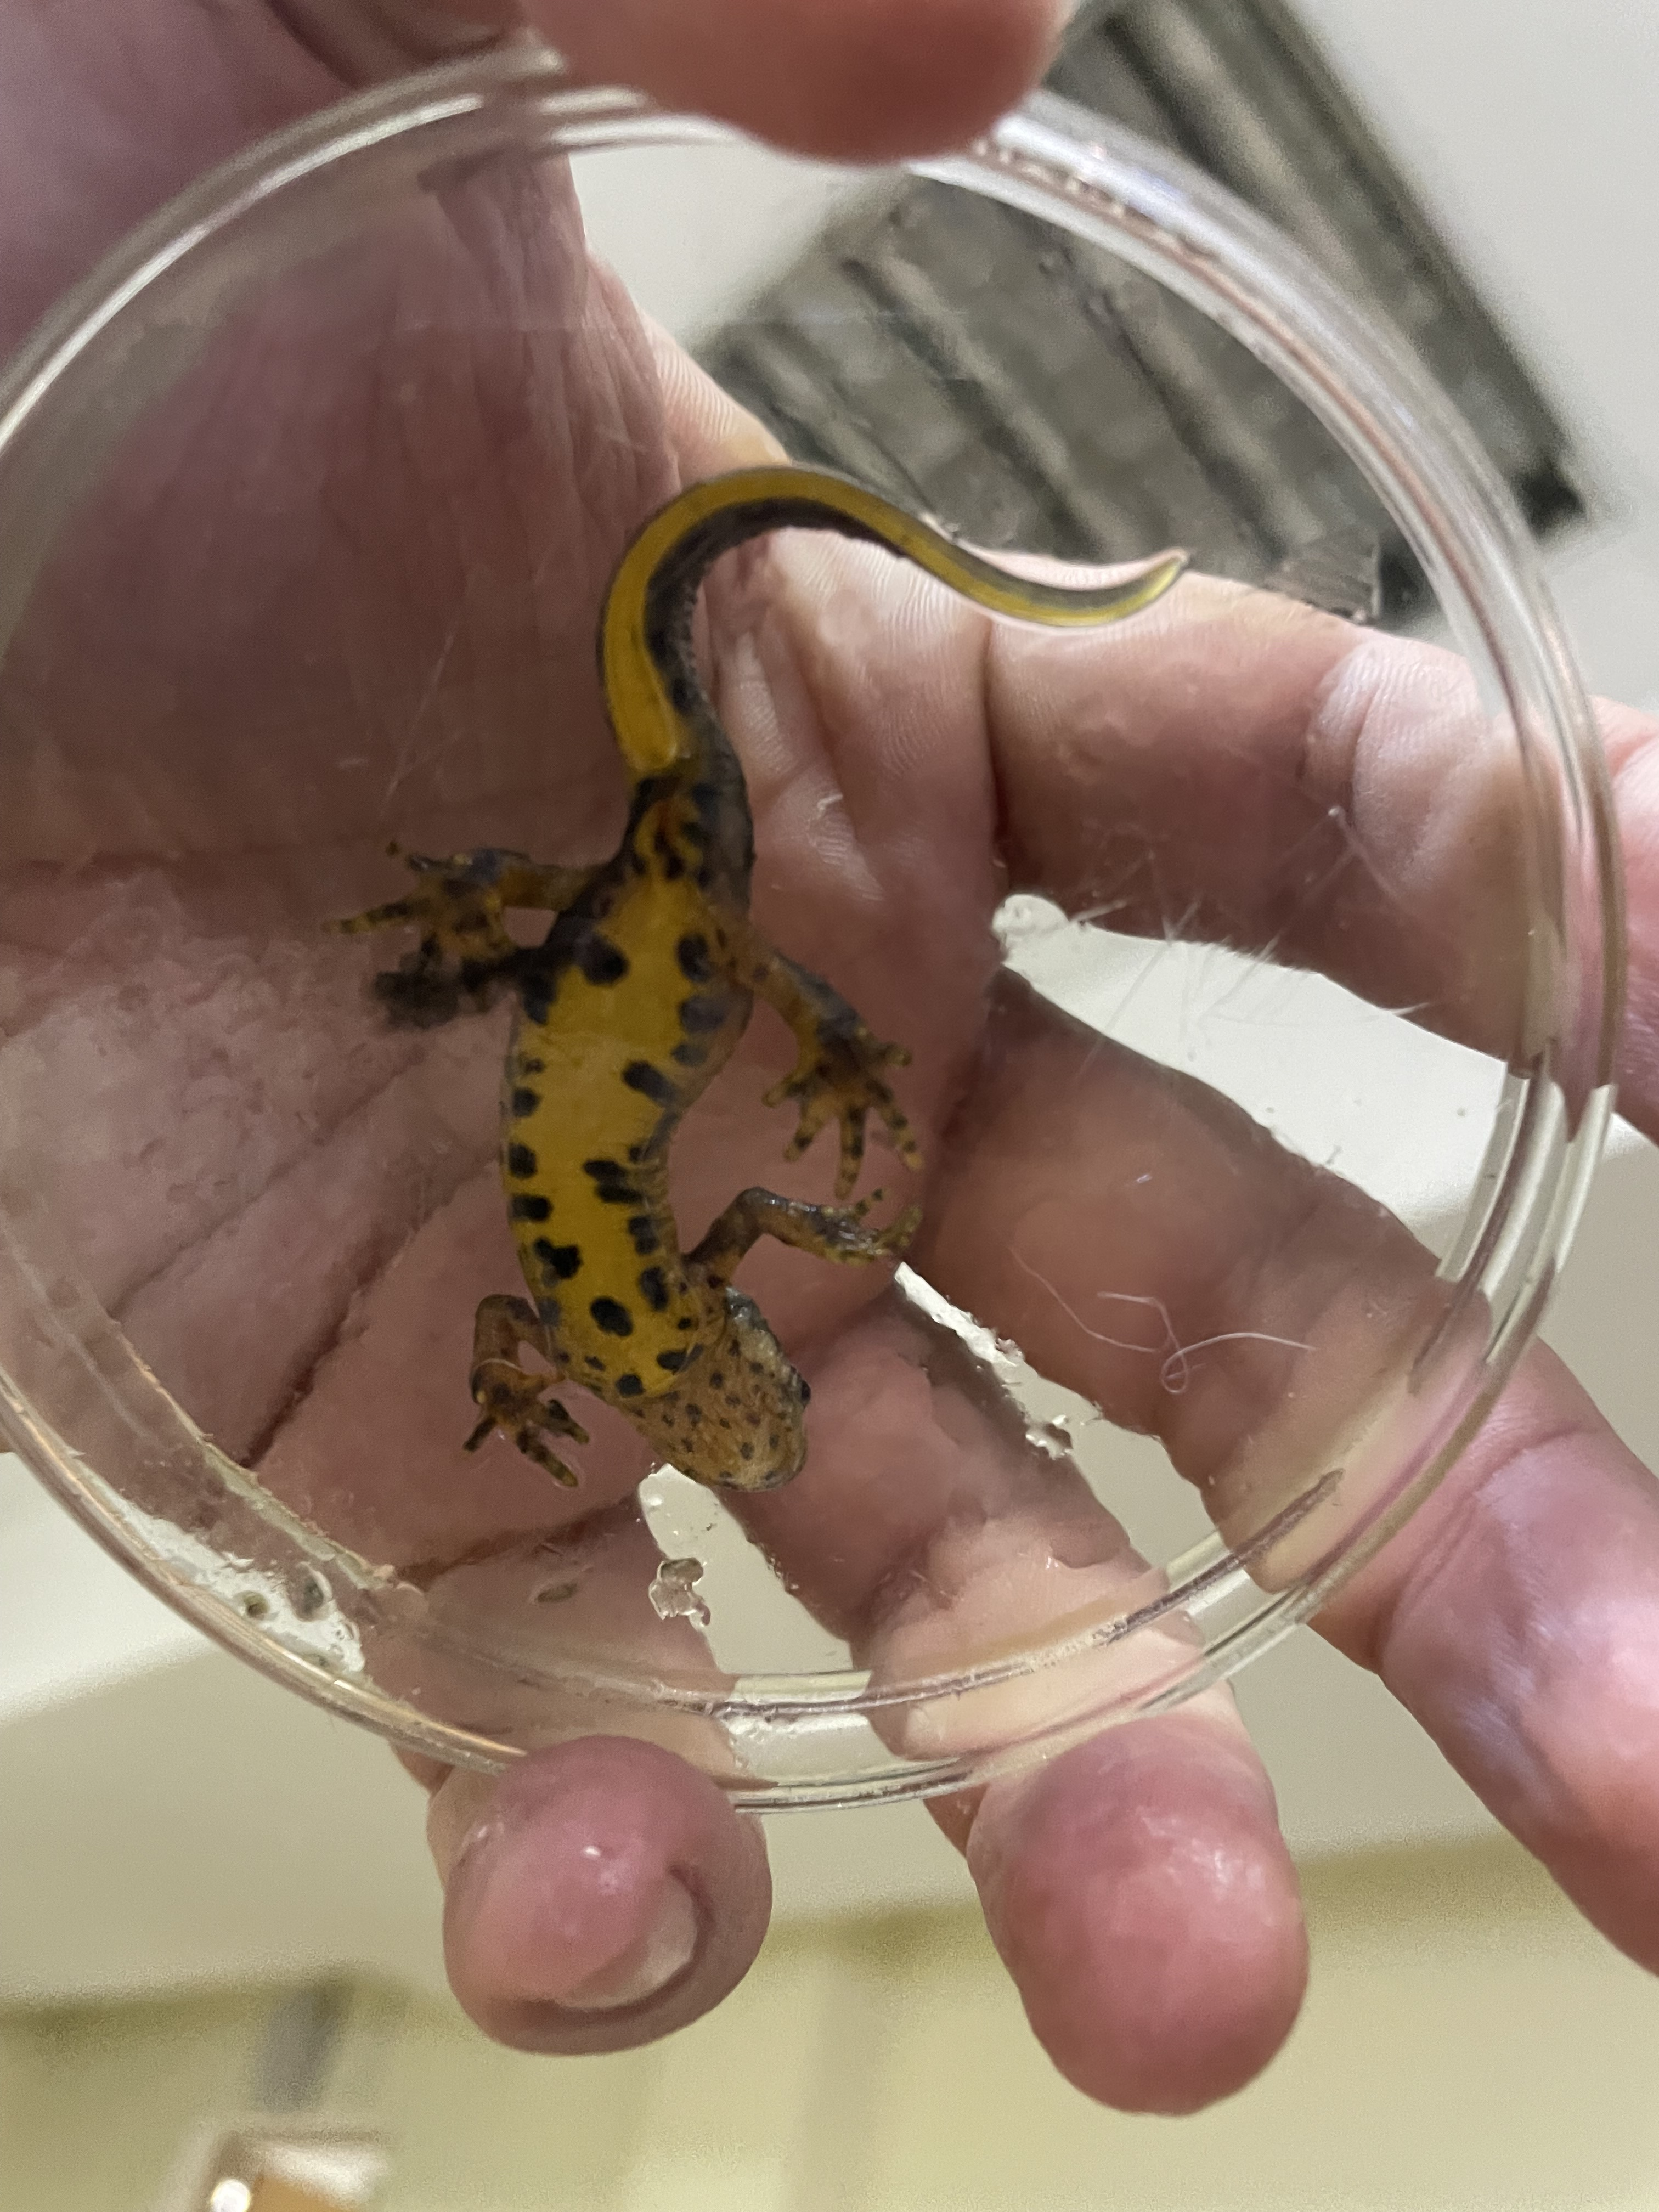Karelin_newt: (498, 914, 755, 1308)
